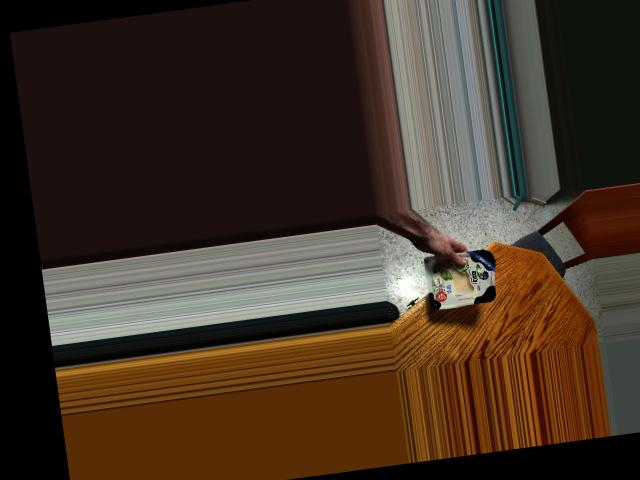cheese: (418, 243, 500, 310)
